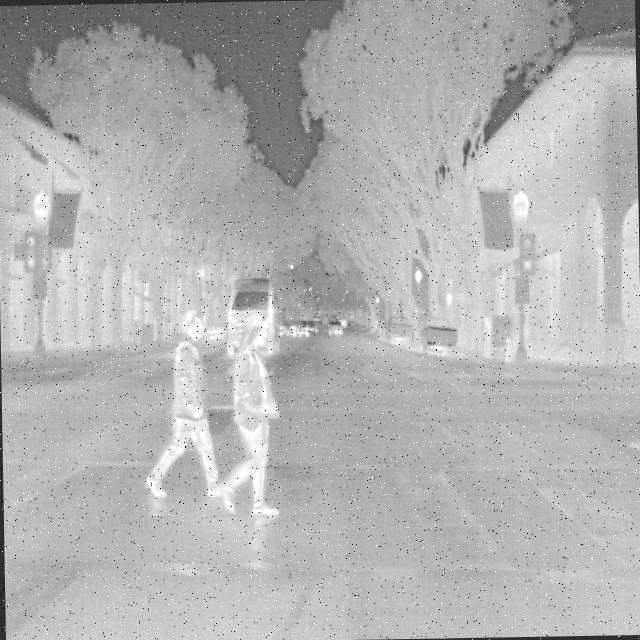Pedestrian: (140, 305, 226, 502), (216, 310, 282, 520)
Vehicle: (224, 274, 276, 356)
